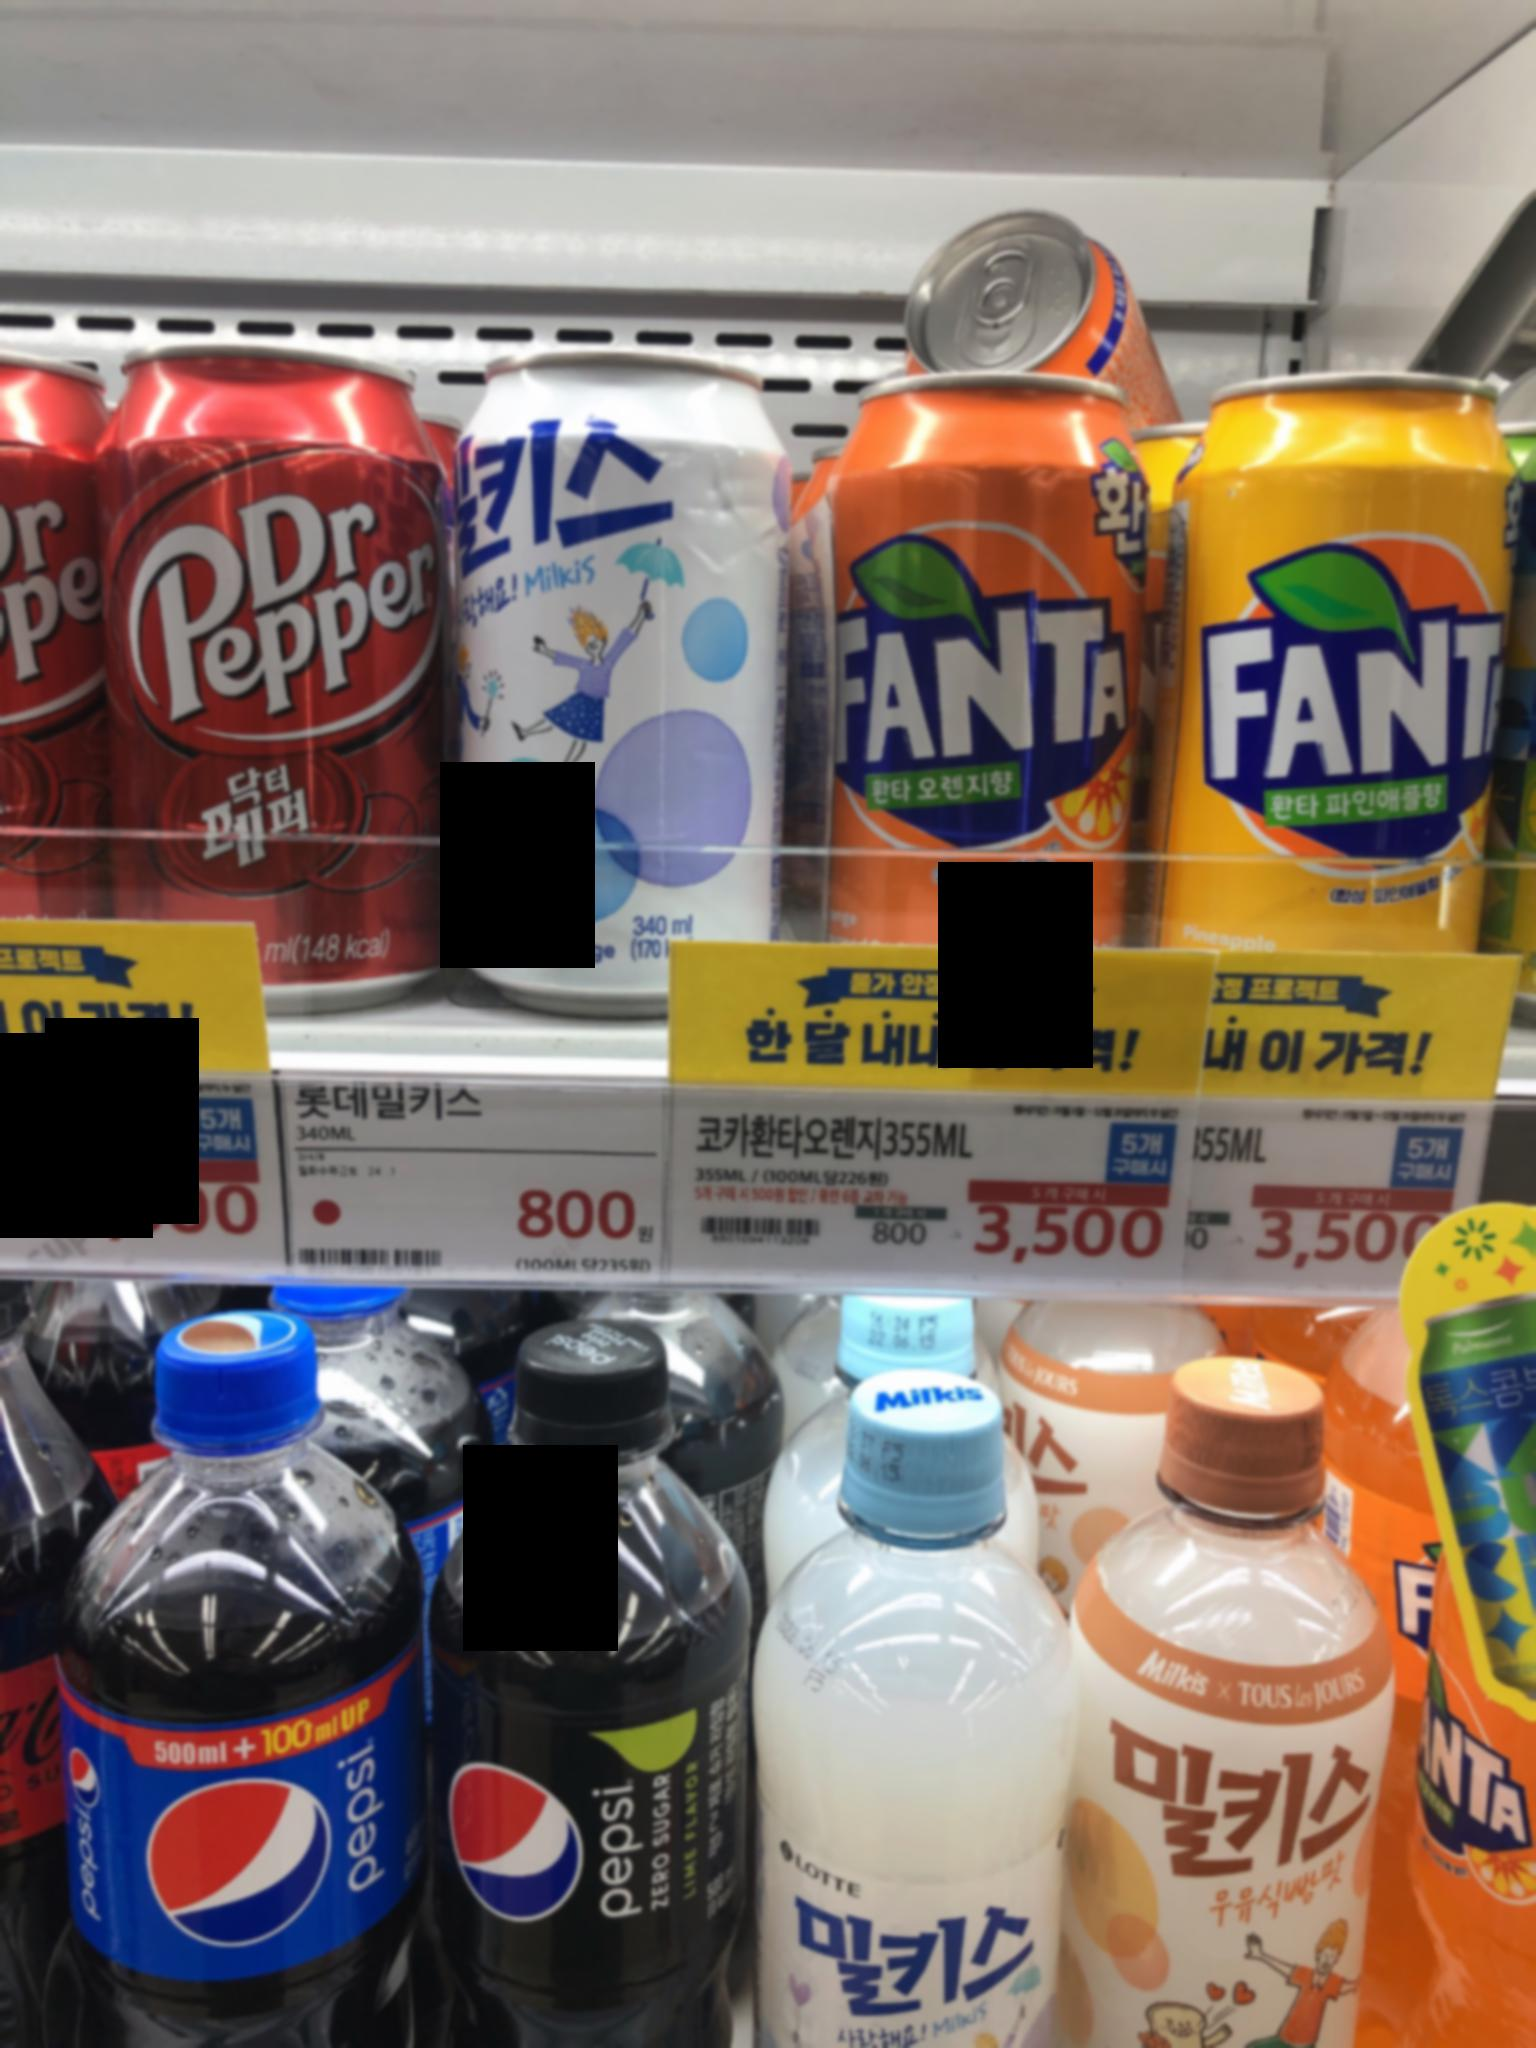fanta_orange: (792, 327, 1144, 943)
